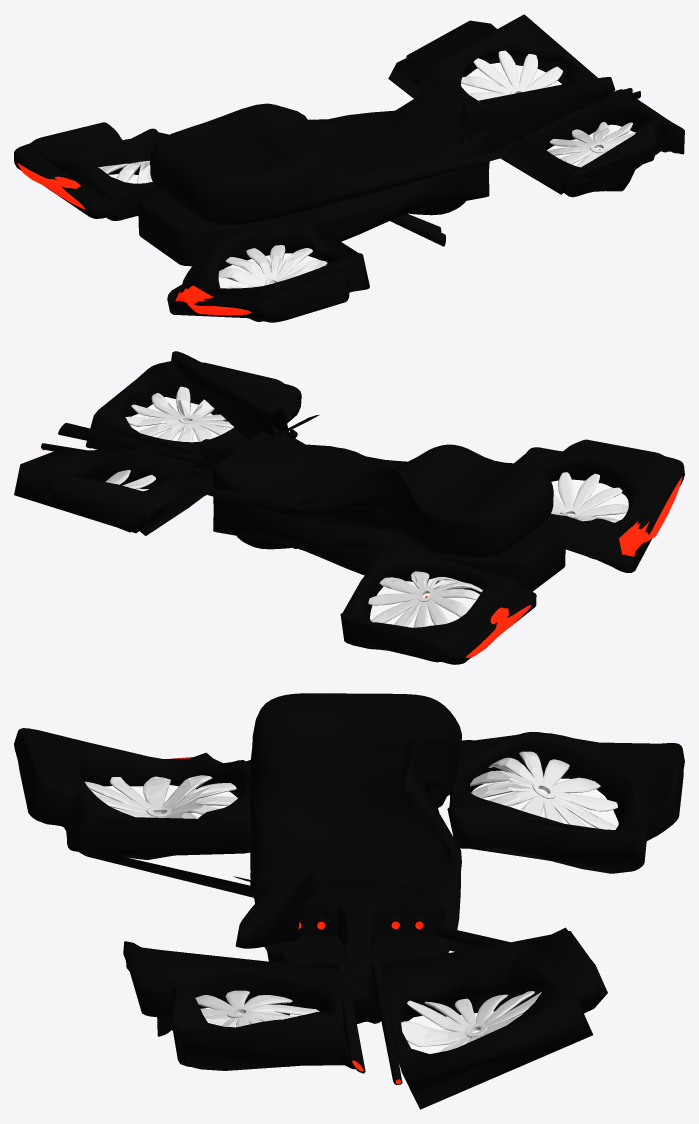
The model's file is demageenemydron.fbx.
3 views of the same model, one above another, from view 1: azimuth 30°, elevation 25°; view 2: azimuth 150°, elevation 25°; view 3: azimuth 270°, elevation 25° (orthographic). The views are drawn at different scales.
Parts seen in each view (by area): view 1: Cube.003, Cube.001; view 2: Cube.003, Cube.001; view 3: Cube.003, Cube.001.
Part boxes in pixels (left/top/right/bottom): Cube.003: left=14, top=14, right=684, bottom=322; Cube.001: left=390, top=77, right=615, bottom=246; Cube.003: left=14, top=361, right=684, bottom=664; Cube.001: left=161, top=351, right=319, bottom=548; Cube.003: left=14, top=693, right=684, bottom=1109; Cube.001: left=75, top=847, right=509, bottom=1015.
Size of the model in its own units: 547 by 142 by 434.
